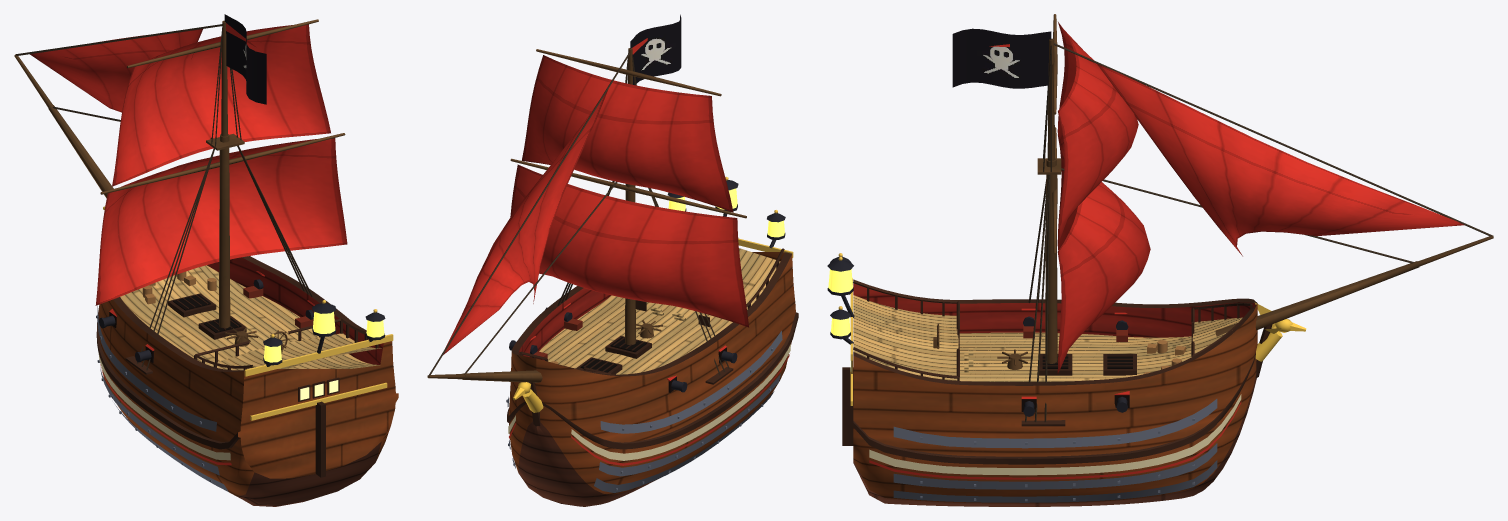
The model's file is player_sloop.glb.
3 views of the same model, side by side, from view 1: azimuth 30°, elevation 25°; view 2: azimuth 150°, elevation 25°; view 3: azimuth 270°, elevation 25° (orthographic). The views are drawn at different scales.
Parts seen in each view (by area): view 1: Hull, Sail0_0, Sail0_1, Rigging, Jib, Flag, Plating3, Plating2, Plating1, Guns3; view 2: Hull, Sail0_0, Sail0_1, Jib, Rigging, Plating3, Flag, Plating2, Plating1, Guns3; view 3: Hull, Jib, Sail0_0, Rigging, Sail0_1, Flag, Plating3, Plating2, Plating1.
Part boxes in pixels (left/top/right/bottom): Hull: left=96, top=206, right=398, bottom=506; Sail0_0: left=95, top=138, right=347, bottom=305; Sail0_1: left=112, top=24, right=330, bottom=186; Rigging: left=14, top=19, right=345, bottom=370; Jib: left=30, top=29, right=202, bottom=112; Flag: left=224, top=14, right=266, bottom=104; Plating3: left=96, top=306, right=228, bottom=491; Plating2: left=98, top=361, right=224, bottom=485; Plating1: left=97, top=360, right=219, bottom=475; Guns3: left=99, top=279, right=332, bottom=362; Hull: left=507, top=176, right=798, bottom=506; Sail0_0: left=510, top=164, right=748, bottom=327; Sail0_1: left=521, top=55, right=733, bottom=212; Jib: left=443, top=89, right=608, bottom=354; Rigging: left=427, top=38, right=746, bottom=382; Plating3: left=506, top=331, right=782, bottom=492; Flag: left=630, top=14, right=681, bottom=84; Plating2: left=508, top=378, right=776, bottom=491; Plating1: left=508, top=374, right=780, bottom=476; Guns3: left=509, top=307, right=737, bottom=392; Hull: left=827, top=253, right=1306, bottom=506; Jib: left=1097, top=64, right=1464, bottom=256; Sail0_0: left=1057, top=136, right=1150, bottom=374; Rigging: left=989, top=14, right=1493, bottom=422; Sail0_1: left=1057, top=22, right=1138, bottom=244; Flag: left=952, top=28, right=1051, bottom=88; Plating3: left=893, top=399, right=1217, bottom=502; Plating2: left=893, top=447, right=1217, bottom=500; Plating1: left=893, top=443, right=1217, bottom=488.
Bounding box in the file's own units: 1.71 × 2.8 × 3.71.
23 materials, 8 textured.
